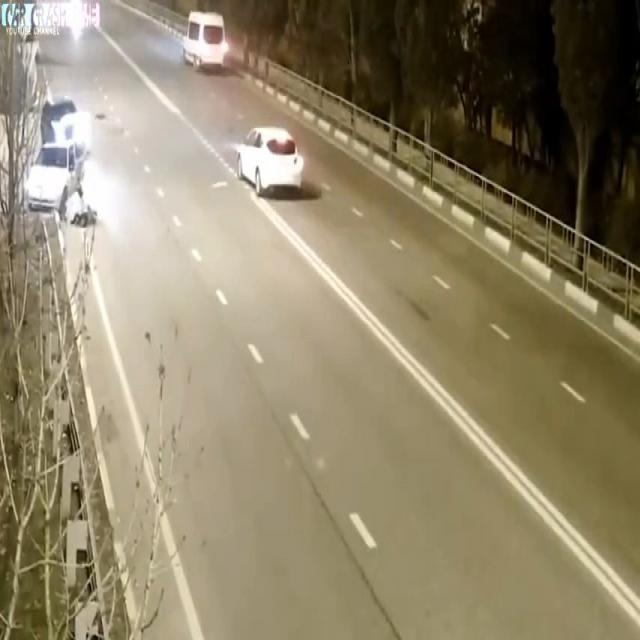Accident: (10, 82, 108, 243)
